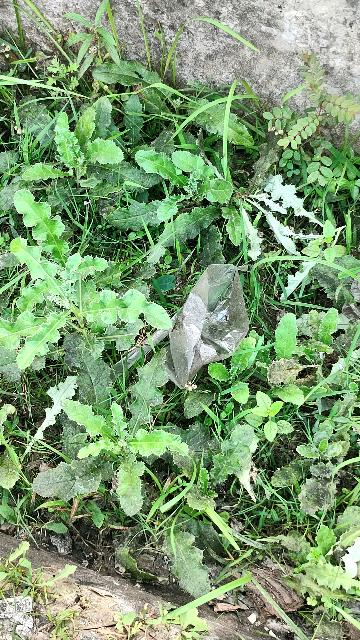polythene: (164, 263, 266, 393)
